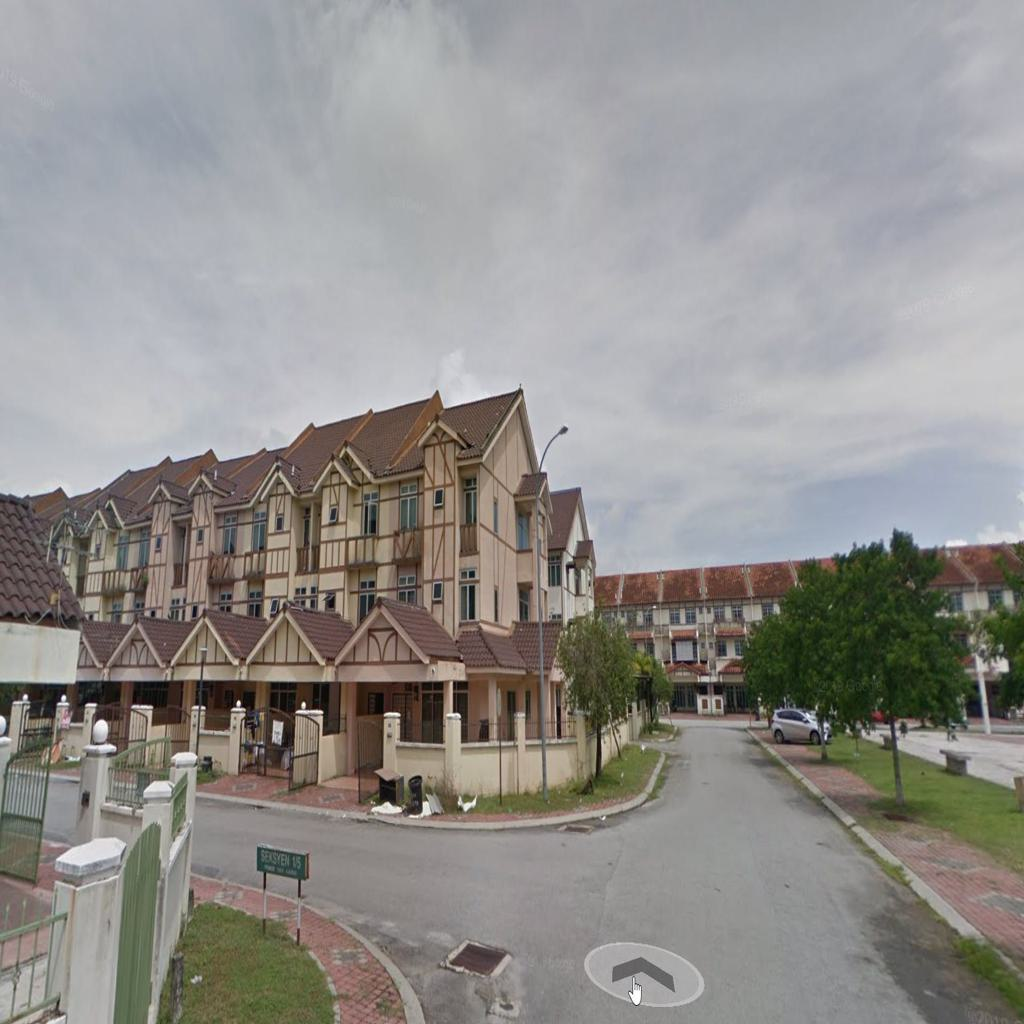Junction: (201, 785, 688, 1024)
